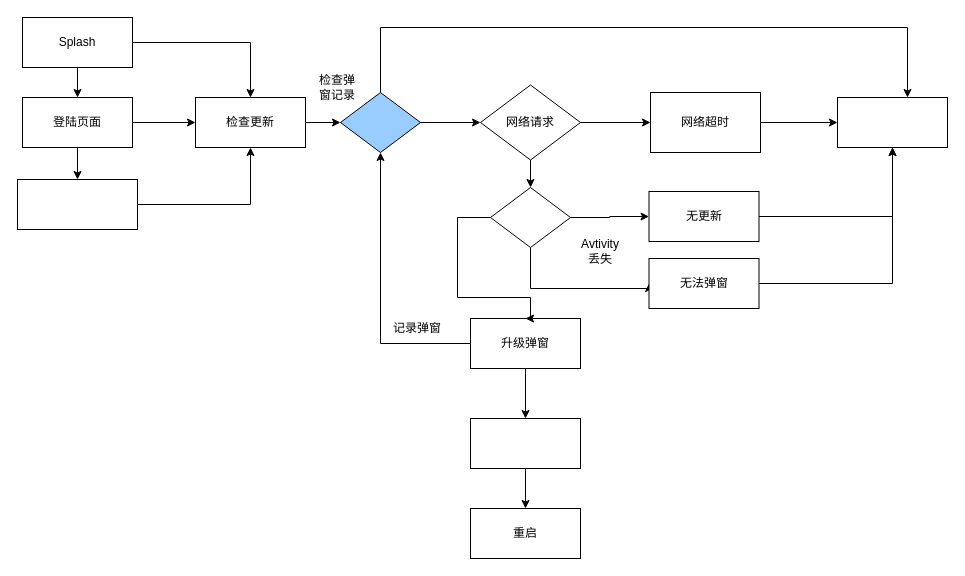
The diagram is 965 pixels wide and 576 high, and some of its shapes have lost their labels. The shapes that lost their labels are listed below. From the top down, each one's centre as x and y in pixels, then its label:
At point (380, 122): "弹窗记录".
At point (892, 122): "更新结束".
At point (77, 204): "主页".
At point (530, 217): "检测成功".
At point (525, 443): "升级完毕".
